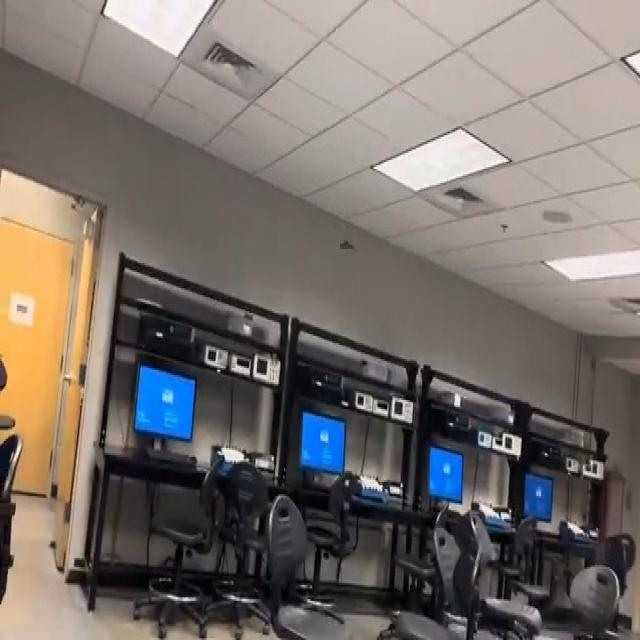drone: (329, 228, 366, 260)
